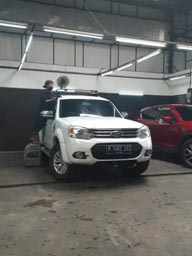plat: (107, 144, 133, 150)
